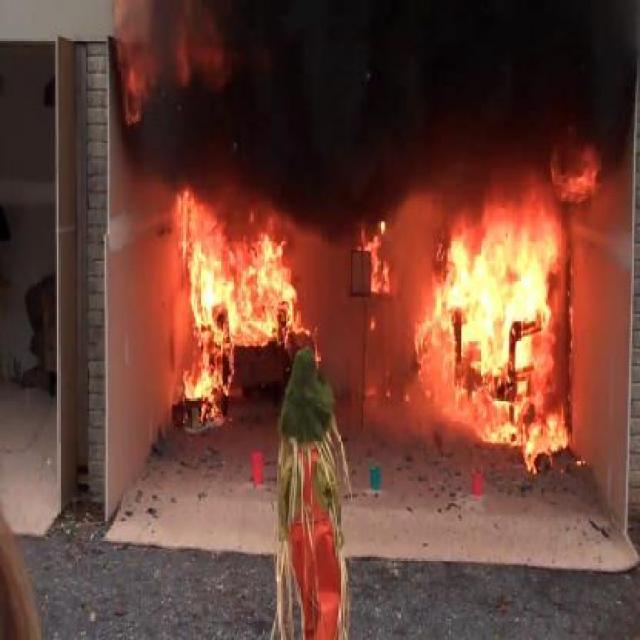fire: (429, 193, 580, 479), (156, 166, 298, 431)
smoke: (133, 24, 632, 178)
